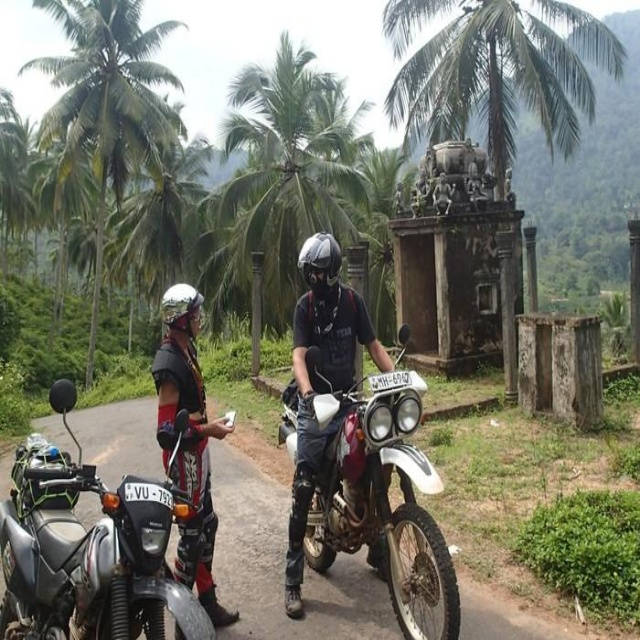Motorcycle: (280, 324, 462, 640), (1, 379, 217, 640)
